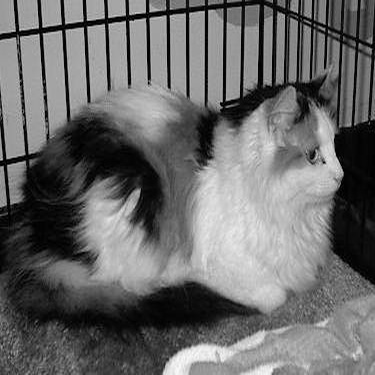cat: (1, 55, 344, 329)
